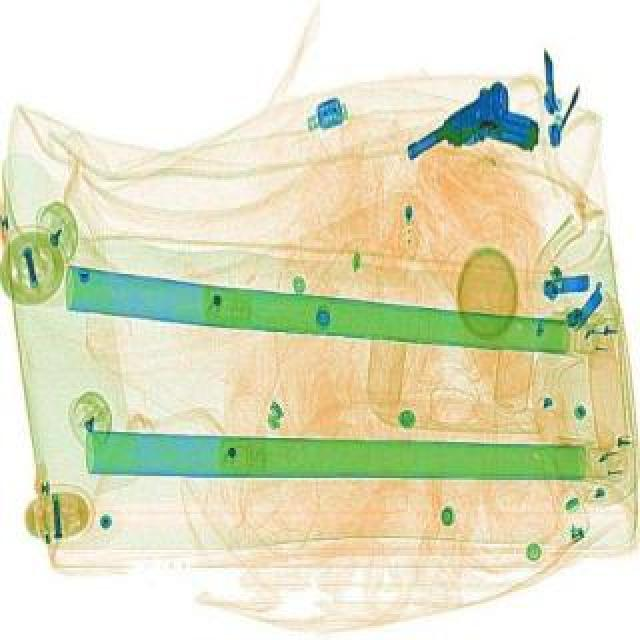gun: (394, 78, 546, 176)
